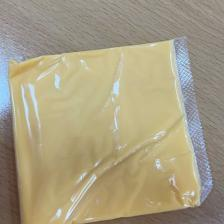cheese: (8, 40, 201, 224)
